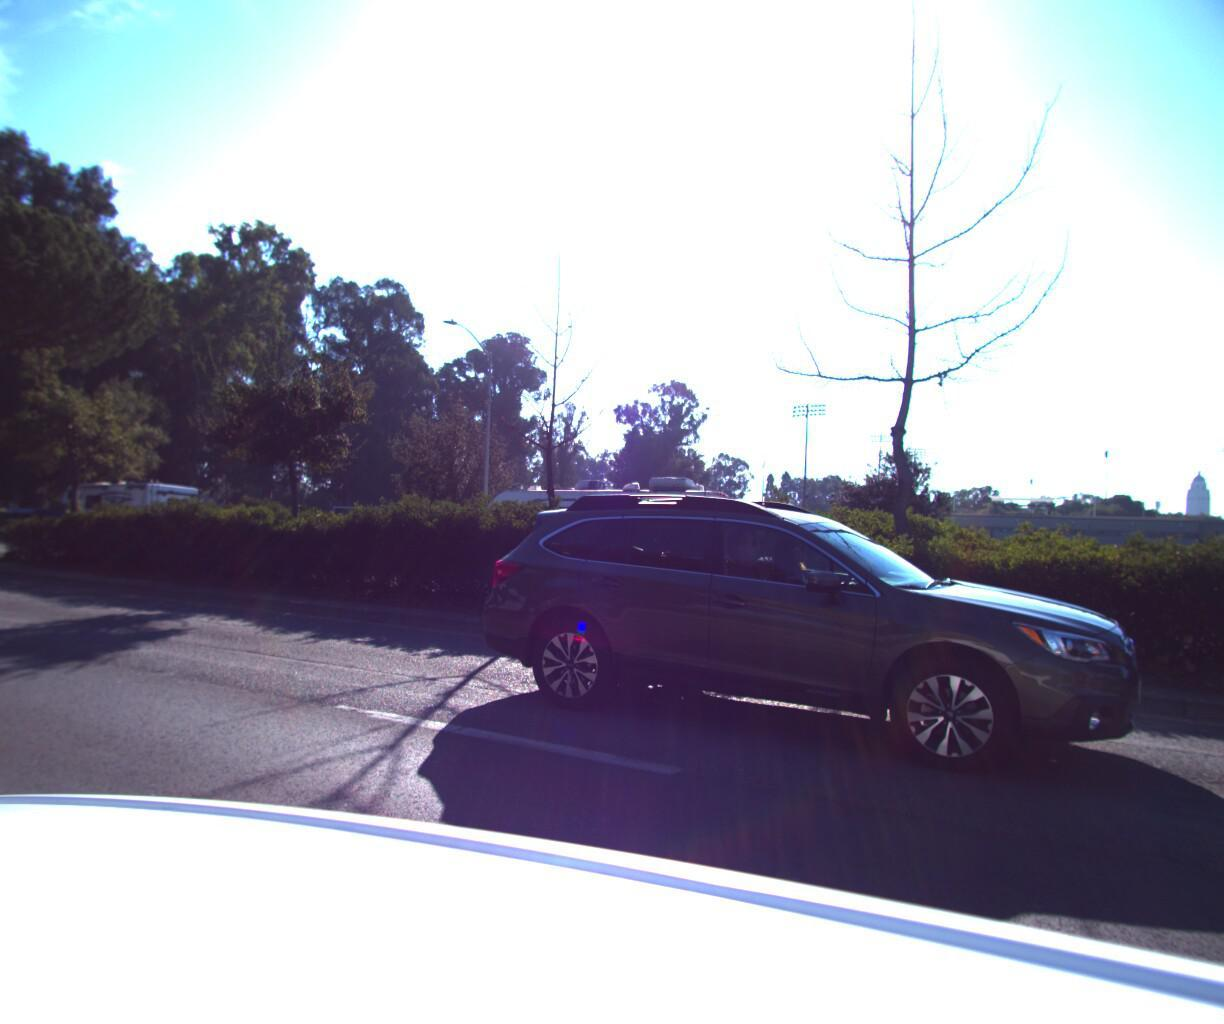car: (460, 460, 1192, 814)
other_vehicle: (456, 474, 741, 595), (45, 479, 204, 558)
